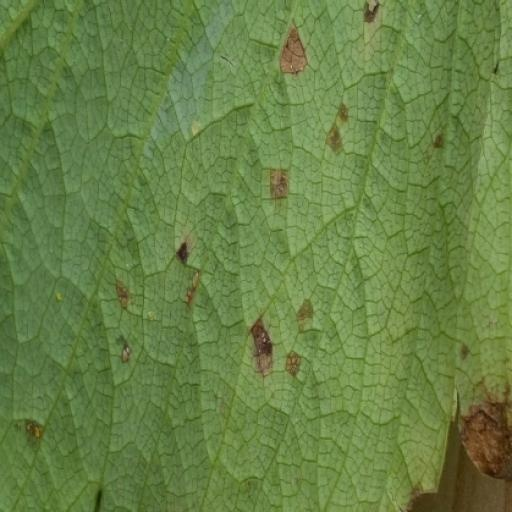Angular Leafspot: (20, 59, 456, 511), (454, 28, 511, 175)
